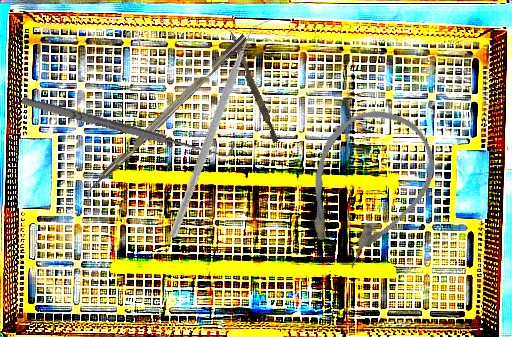Cannula: (279, 91, 452, 283)
Chopper: (131, 17, 311, 240), (77, 34, 256, 207)
Hook Surgical: (18, 86, 237, 165)
Pusher: (224, 29, 282, 144)
